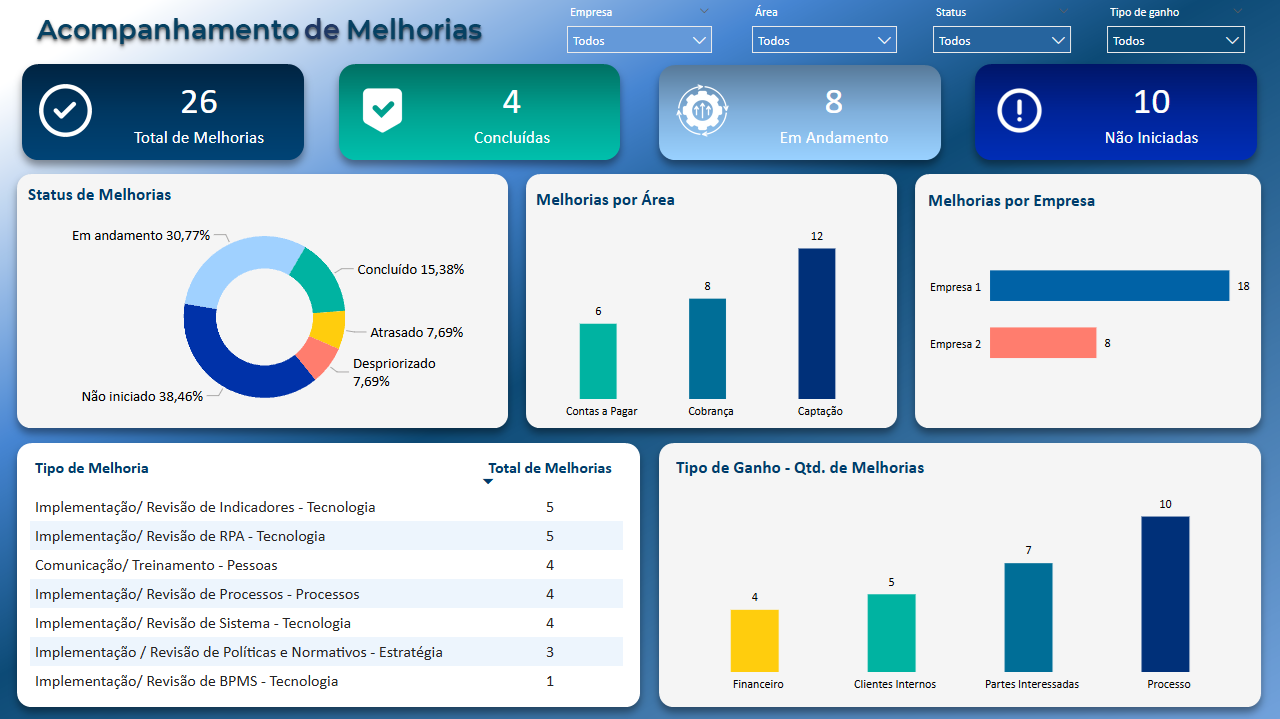

What the dashboard file says about the page in this screenshot:
{"tool":"powerbi","page":{"name":"Página 1","canvas":[1280,720],"ordinal":0},"visuals":[{"type":"card","fields":{"Values":["Medidas.Total Melhorias"]},"box":[96.4,66.4,204.5,97.3],"z":0},{"type":"card","fields":{"Values":["Medidas.Melhorias Em Andamento"]},"box":[731.1,67.8,205.6,95.6],"z":1000},{"type":"donutChart","title":"Status de Melhorias","fields":{"Category":["Base.Status"],"Y":["Medidas.Total Melhorias"]},"box":[22.7,178.2,483.6,248.2],"z":2000},{"type":"slicer","fields":{"Values":["Base.Empresa"]},"box":[557.3,4.5,164.5,49.1],"z":3000},{"type":"slicer","fields":{"Values":["Base.Área"]},"box":[741.8,4.5,165.5,49.1],"z":4000},{"type":"slicer","fields":{"Values":["Base.Status"]},"box":[922.7,4.5,158.2,49.1],"z":5000},{"type":"slicer","fields":{"Values":["Base.Tipo de ganho"]},"box":[1097.3,4.5,158.2,49.1],"z":6000},{"type":"clusteredColumnChart","title":"Tipo de Ganho - Qtd. de Melhorias","fields":{"Category":["Base.Tipo de ganho"],"Y":["Medidas.Total Melhorias"]},"box":[670.9,455.9,584.9,244.5],"z":7000},{"type":"card","fields":{"Values":["Medidas.Melhorias Não Iniciadas"]},"box":[1047.8,66.7,206.7,96.7],"z":8000},{"type":"card","fields":{"Values":["Medidas.Melhorias Concluídas"]},"box":[396.4,66.4,220,97.3],"z":9000},{"type":"tableEx","fields":{"Values":["Base.Tipo de Melhoria","Medidas.Ranking do Produto"]},"box":[22.7,448.2,623.6,260],"z":10000},{"type":"clusteredBarChart","title":"Melhorias por Empresa","fields":{"Category":["Base.Empresa"],"Y":["Medidas.Total Melhorias"]},"box":[923.1,184.4,331.6,228.8],"z":11000},{"type":"clusteredColumnChart","title":"Melhorias por Área","fields":{"Category":["Base.Área"],"Y":["Medidas.Total Melhorias"]},"box":[531.1,182.7,360,239.4],"z":12000}]}

Visuals, with their boxes in screenshot pixels (x1, y1, x2, y2), scaled from the page's 1280x720 canvas onto the 1280x719 screenshot:
card - Medidas.Total Melhorias: crop(96, 66, 301, 163)
card - Medidas.Melhorias Em Andamento: crop(731, 68, 937, 163)
"Status de Melhorias" donutChart: crop(23, 178, 506, 426)
slicer - Base.Empresa: crop(557, 4, 722, 54)
slicer - Base.Área: crop(742, 4, 907, 54)
slicer - Base.Status: crop(923, 4, 1081, 54)
slicer - Base.Tipo de ganho: crop(1097, 4, 1256, 54)
"Tipo de Ganho - Qtd. de Melhorias" clusteredColumnChart: crop(671, 455, 1256, 699)
card - Medidas.Melhorias Não Iniciadas: crop(1048, 67, 1254, 163)
card - Medidas.Melhorias Concluídas: crop(396, 66, 616, 163)
tableEx - Base.Tipo de Melhoria x Medidas.Ranking do Produto: crop(23, 448, 646, 707)
"Melhorias por Empresa" clusteredBarChart: crop(923, 184, 1255, 413)
"Melhorias por Área" clusteredColumnChart: crop(531, 182, 891, 422)
